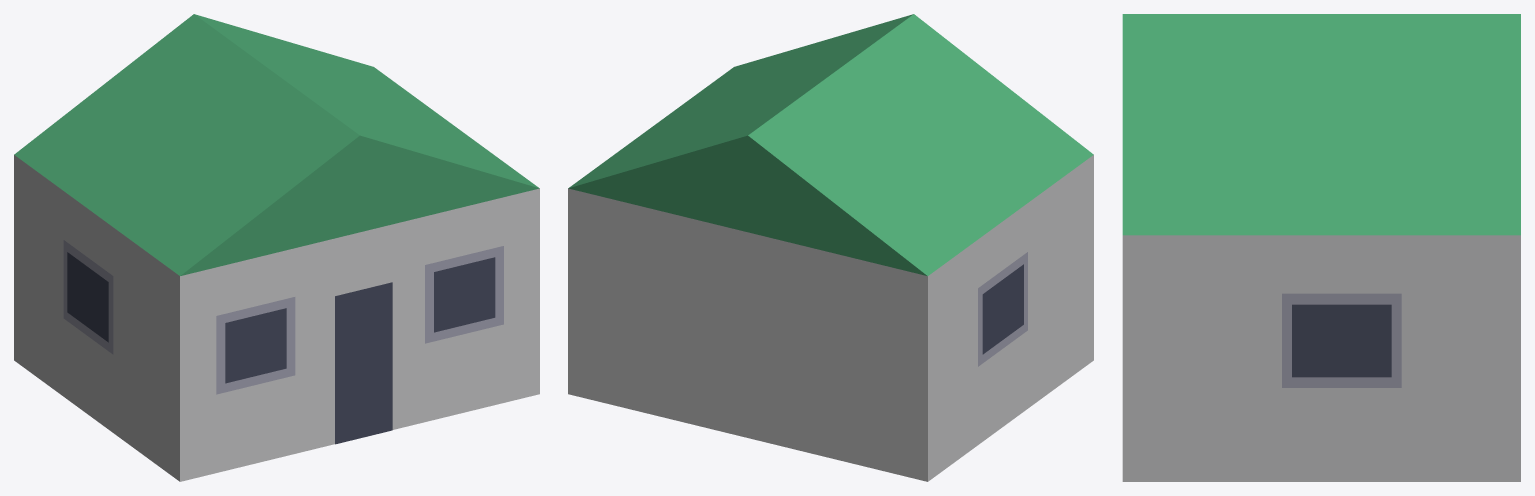
Rendered from building-type-c-low.glb.
The picture shows the model from 3 angles, left to right: view 1: azimuth 30°, elevation 25°; view 2: azimuth 150°, elevation 25°; view 3: azimuth 270°, elevation 25°; orthographic projection. The views are drawn at different scales.
Bounding box in the file's own units: 1.29 × 1.03 × 1.03.
